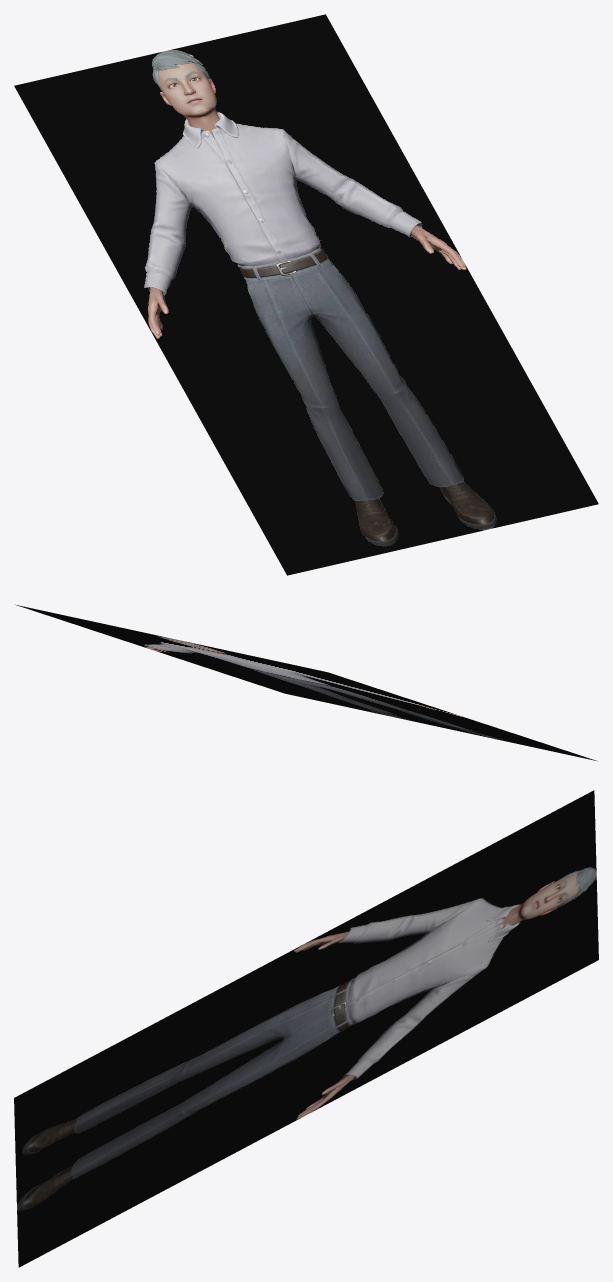
The model's file is amloplane.glb.
3 views of the same model, one above another, from view 1: azimuth 30°, elevation 25°; view 2: azimuth 150°, elevation 25°; view 3: azimuth 270°, elevation 25° (orthographic). The views are drawn at different scales.
Parts seen in each view (by area): view 1: amloplane; view 2: amloplane; view 3: amloplane.
Part boxes in pixels (box(x1,y1,x2,y2)): amloplane: box(14, 14, 598, 575); amloplane: box(15, 604, 597, 761); amloplane: box(14, 790, 598, 1267).
Size of the model in its own units: 0.5726 by 0.5169 by 0.8698.
Materials: 1 (1 with a texture image).
